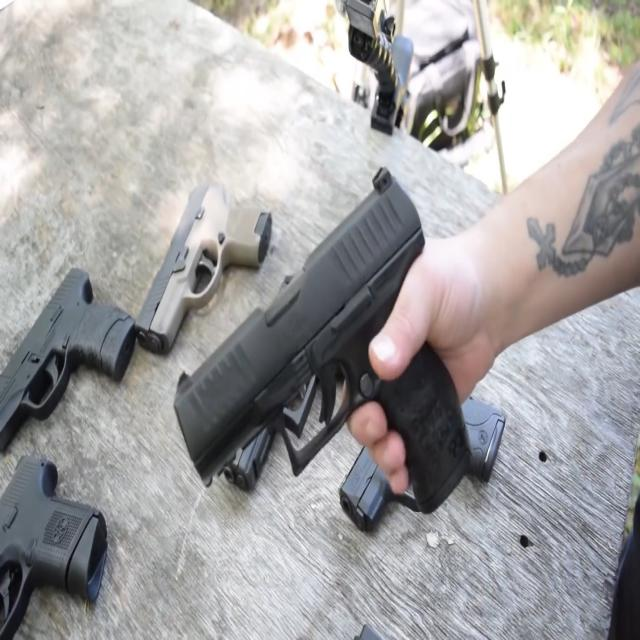handgun: (178, 161, 490, 531), (121, 168, 289, 371), (337, 352, 518, 538), (0, 235, 144, 451), (0, 430, 126, 639)
